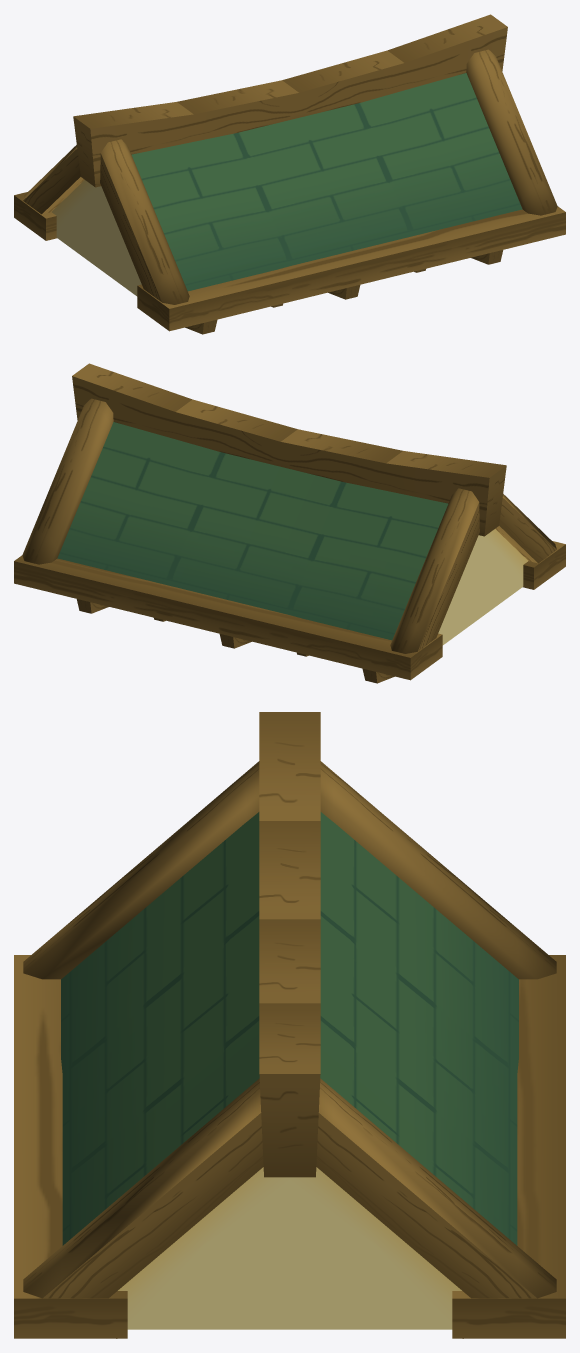
The model's file is Roof.FBX.
3 renders of one model, top to bottom at view 1: azimuth 30°, elevation 25°; view 2: azimuth 150°, elevation 25°; view 3: azimuth 270°, elevation 25°, orthographic. The views are drawn at different scales.
Visible parts, largest first — view 1: Toit; view 2: Toit; view 3: Toit.
Boxes of the visible parts, x1,y1,x2,y2 form: Toit: [14, 14, 565, 334]; Toit: [14, 363, 565, 683]; Toit: [14, 712, 565, 1338].
Bounding box in the file's own units: 50.59 × 21.04 × 32.6.
